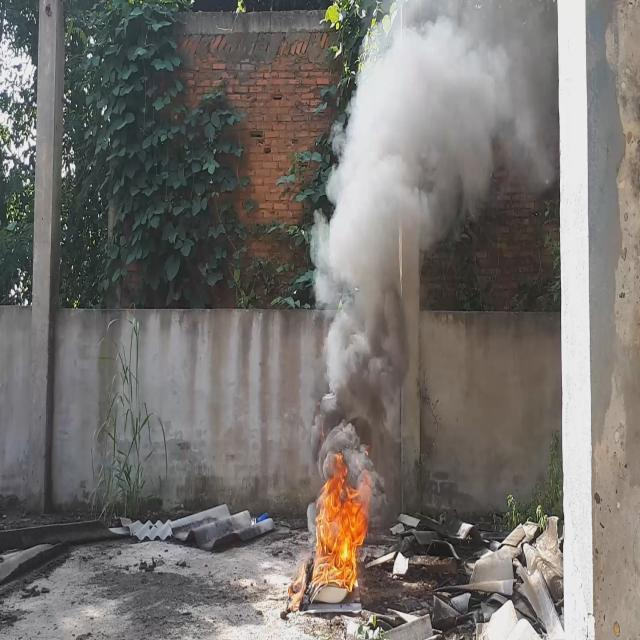Fire: (310, 456, 372, 592)
Smoke: (308, 0, 524, 476)
